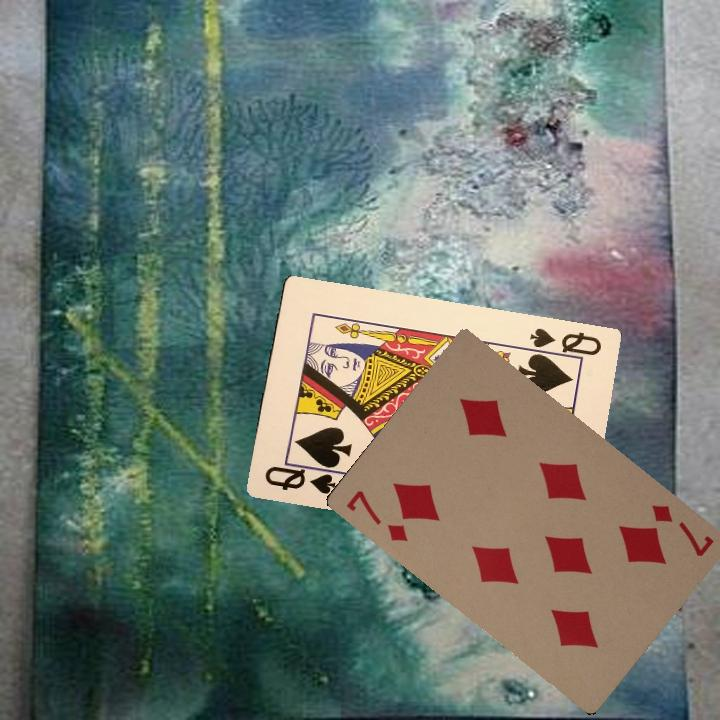7d: (647, 500, 717, 560), (342, 486, 411, 545)
Qs: (524, 323, 604, 366), (261, 458, 343, 497)
